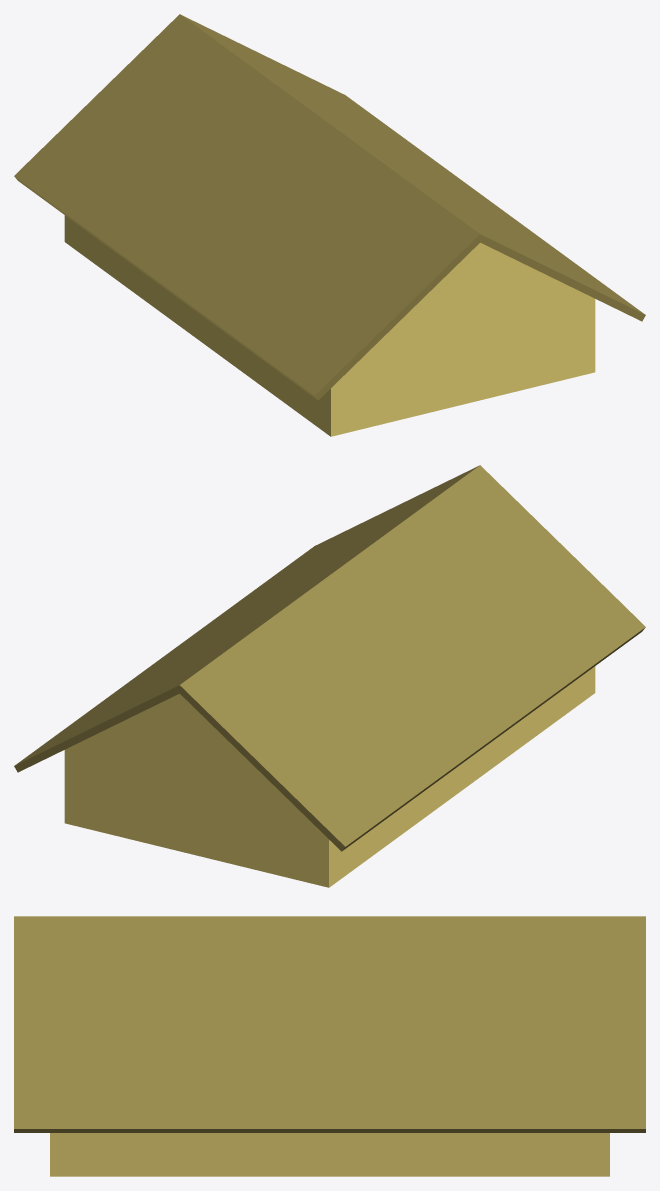
The model's file is result.glb.
The picture shows the model from 3 angles, top to bottom: view 1: azimuth 30°, elevation 25°; view 2: azimuth 150°, elevation 25°; view 3: azimuth 270°, elevation 25°; orthographic projection. The views are drawn at different scales.
Parts seen in each view (by area): view 1: a3e69a71-e578-46b6-8044-579436051b44__undefined (×2), bee8d020-034c-47e0-8116-28104d04caeb__undefined; view 2: a3e69a71-e578-46b6-8044-579436051b44__undefined (×2), bee8d020-034c-47e0-8116-28104d04caeb__undefined; view 3: a3e69a71-e578-46b6-8044-579436051b44__undefined, bee8d020-034c-47e0-8116-28104d04caeb__undefined.
Boxes of the visible parts, left/top/right/bottom form: a3e69a71-e578-46b6-8044-579436051b44__undefined (×2): left=14, top=14, right=645, bottom=400; bee8d020-034c-47e0-8116-28104d04caeb__undefined: left=64, top=215, right=595, bottom=436; a3e69a71-e578-46b6-8044-579436051b44__undefined (×2): left=14, top=465, right=645, bottom=851; bee8d020-034c-47e0-8116-28104d04caeb__undefined: left=64, top=666, right=595, bottom=887; a3e69a71-e578-46b6-8044-579436051b44__undefined: left=14, top=916, right=645, bottom=1132; bee8d020-034c-47e0-8116-28104d04caeb__undefined: left=50, top=1133, right=609, bottom=1176.
Size of the model in its own units: 1251 by 660 by 1964.
